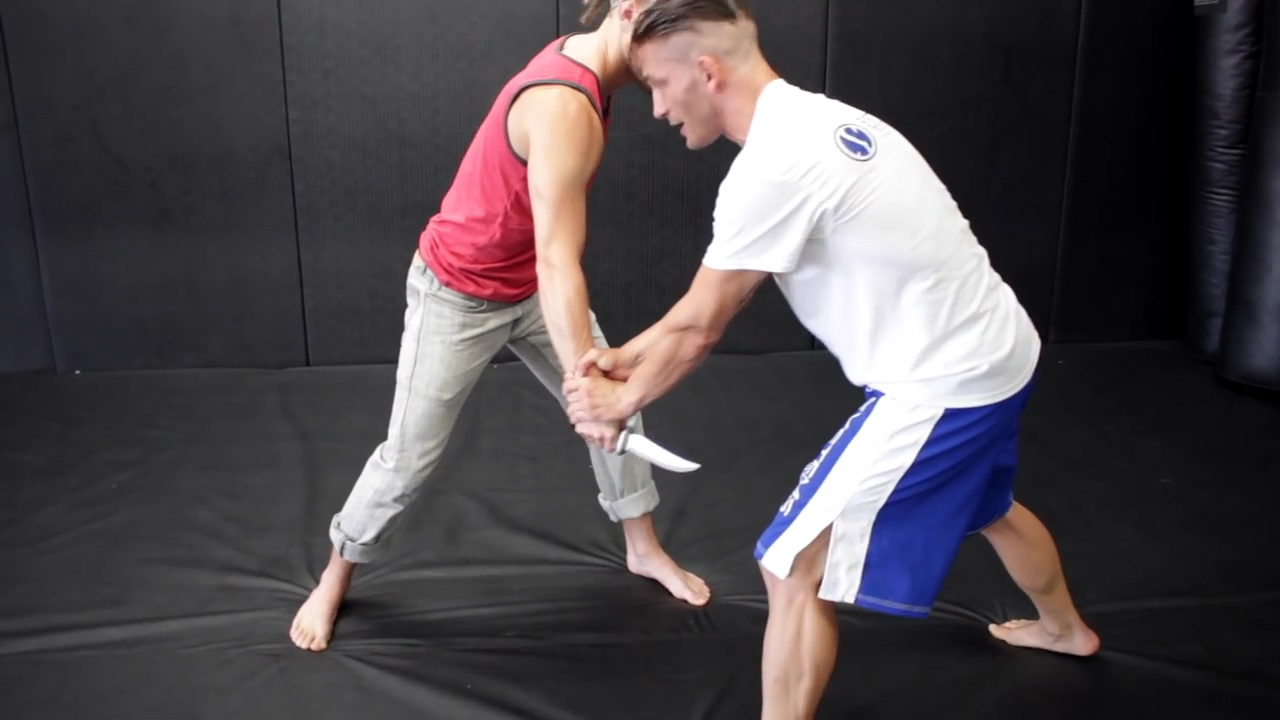knife: (567, 419, 708, 482)
